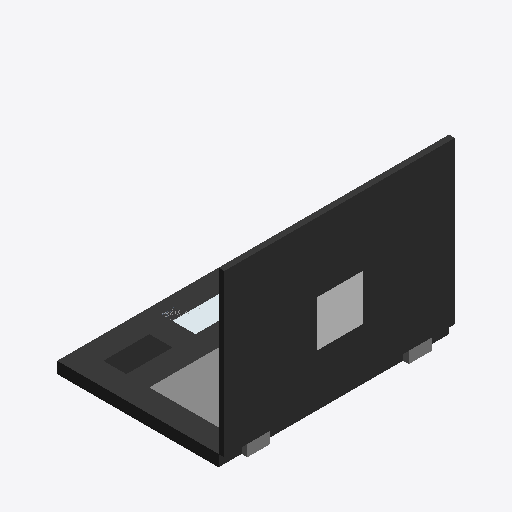
A Minecraft block model of 8 cuboids, rendered isometrically (azimuth 45°, elevation 35.3°) with the resource pack's own textures.
Parts seen in each view (by area): element 2, element 1.
Boxes of the visible parts, x1,y1,x2,y2 form: element 2: [219, 135, 454, 456]; element 1: [57, 268, 448, 466].
Size of the model in its own units: 10 by 7.5 by 7.25.